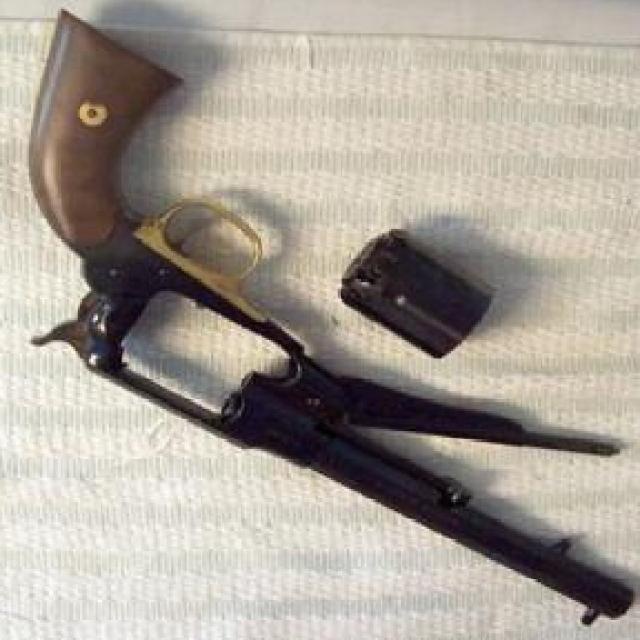pistol: (11, 3, 636, 627)
